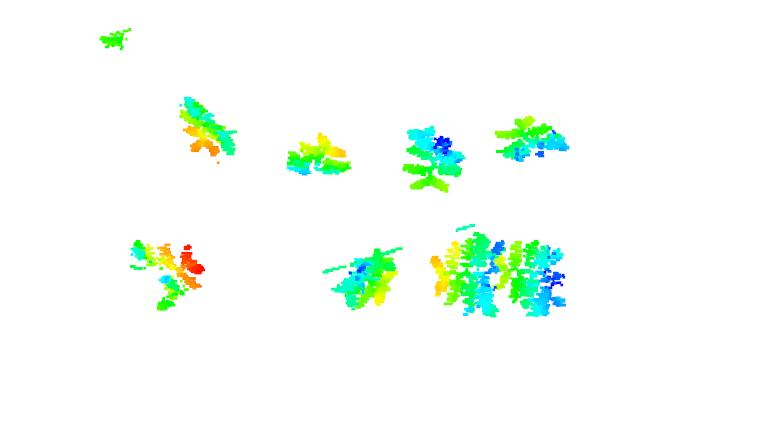chickpea: (494, 235, 571, 320), (431, 230, 502, 319), (127, 237, 207, 313), (400, 125, 467, 196), (332, 246, 399, 313), (176, 94, 238, 159), (494, 113, 571, 165), (285, 130, 353, 180)
